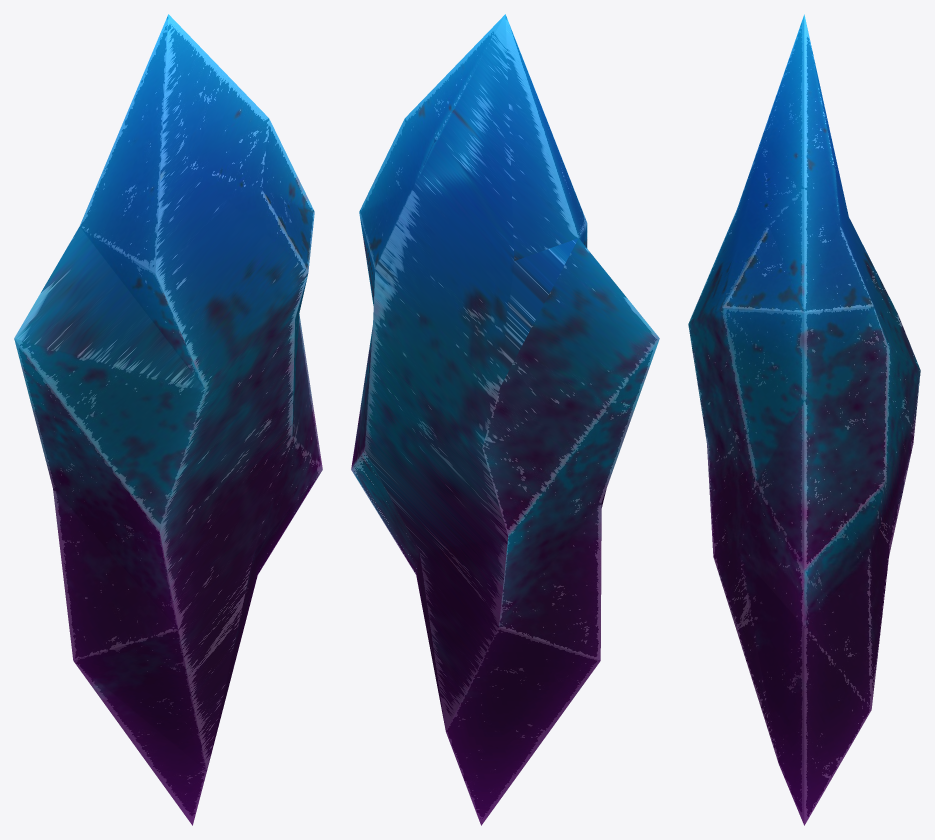
The picture shows the model from 3 angles, left to right: view 1: azimuth 30°, elevation 25°; view 2: azimuth 150°, elevation 25°; view 3: azimuth 270°, elevation 25°; orthographic projection. The views are drawn at different scales.
Parts seen in each view (by area): view 1: GiantCrystal; view 2: GiantCrystal; view 3: GiantCrystal.
Part boxes in pixels (x1,y1,x2,y2): GiantCrystal: (14,14,322,825); GiantCrystal: (351,14,659,825); GiantCrystal: (688,14,920,825).
Bounding box in the file's own units: 0.7901 × 2 × 0.5264.
1 material, 1 textured.
